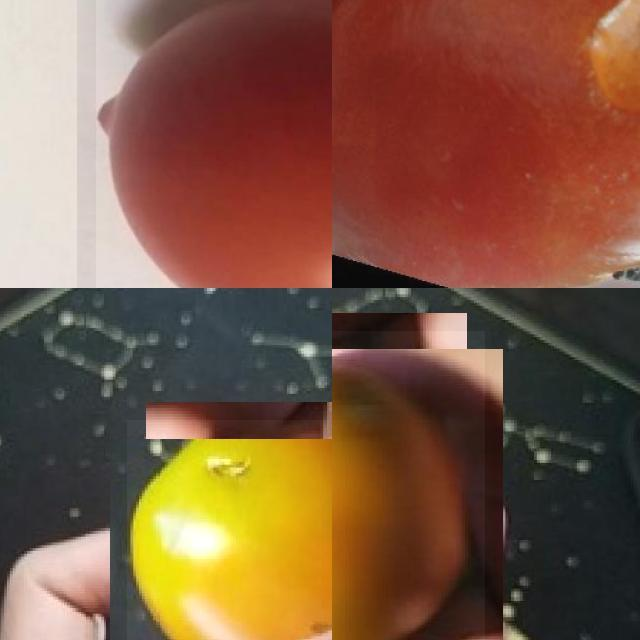Fresh Tomato: (96, 0, 332, 288)
Rotten Tomato: (332, 0, 640, 288), (332, 331, 484, 640), (127, 420, 332, 640)
